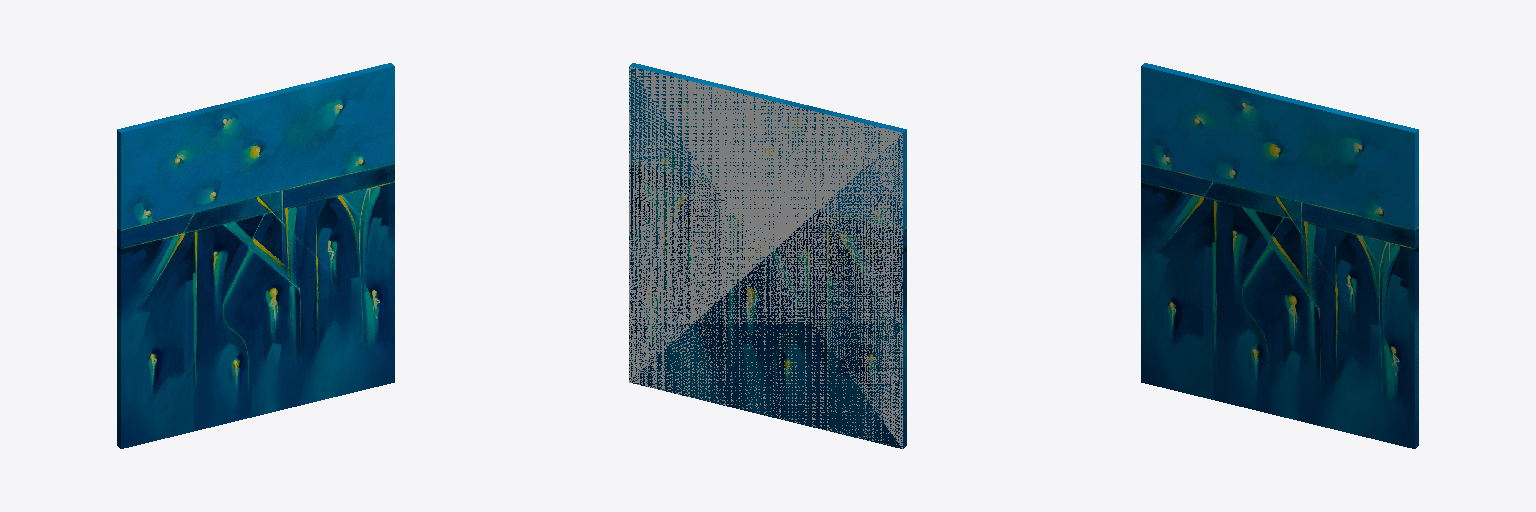
3 renders of one model, left to right at view 1: azimuth 30°, elevation 25°; view 2: azimuth 150°, elevation 25°; view 3: azimuth 330°, elevation 25°, orthographic.
Parts seen in each view (by area): view 1: Mesh1 Group1 Model; view 2: Mesh1 Group1 Model; view 3: Mesh1 Group1 Model.
Part boxes in pixels (x1,y1,x2,y2): Mesh1 Group1 Model: (117,63,394,448); Mesh1 Group1 Model: (629,63,906,448); Mesh1 Group1 Model: (1141,63,1418,448).
Size of the model in its own units: 1.39 by 1.53 by 0.04.
2 materials, 1 textured.